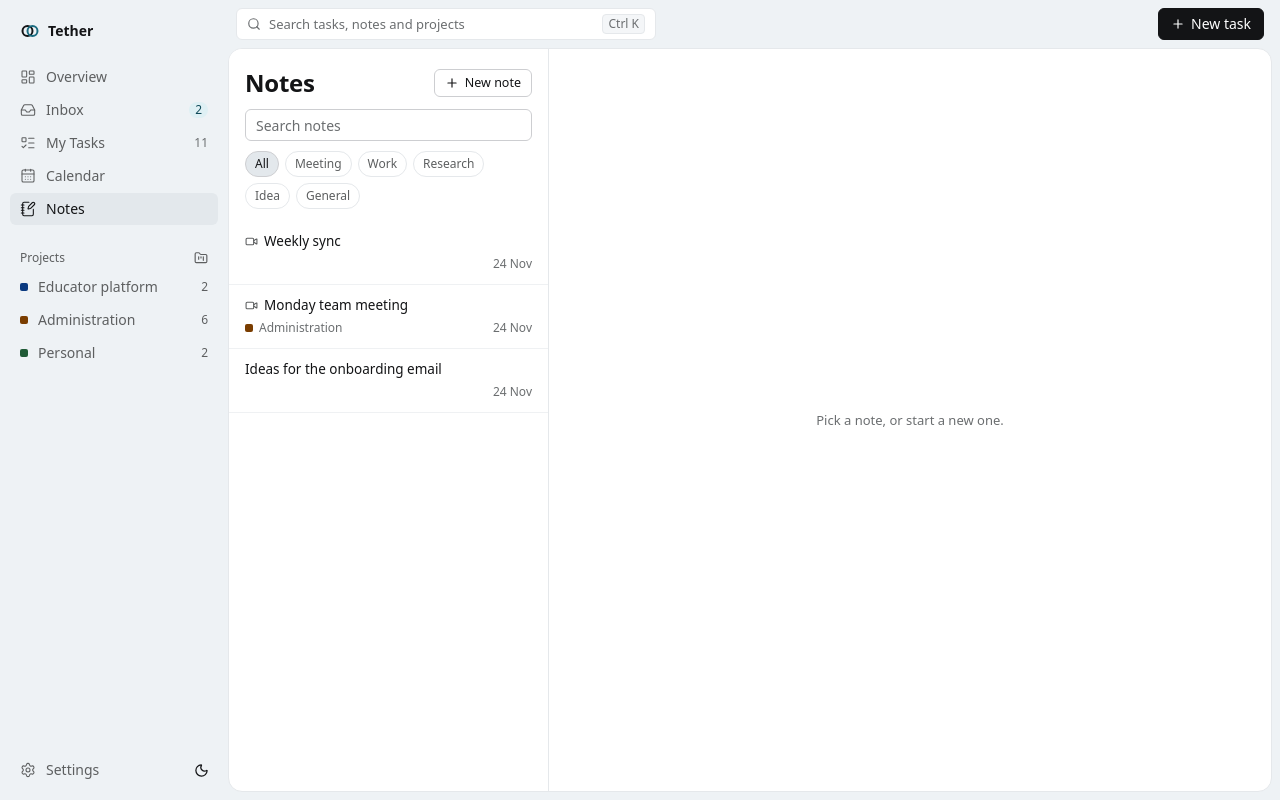
Scenario: Notes › opens a note and saves an edited title on blur
This screenshot has width=1280, height=800.
Click the button "Ideas for the onboarding email 24 Nov" at {"x": 388, "y": 381}, box [229, 349, 548, 413]
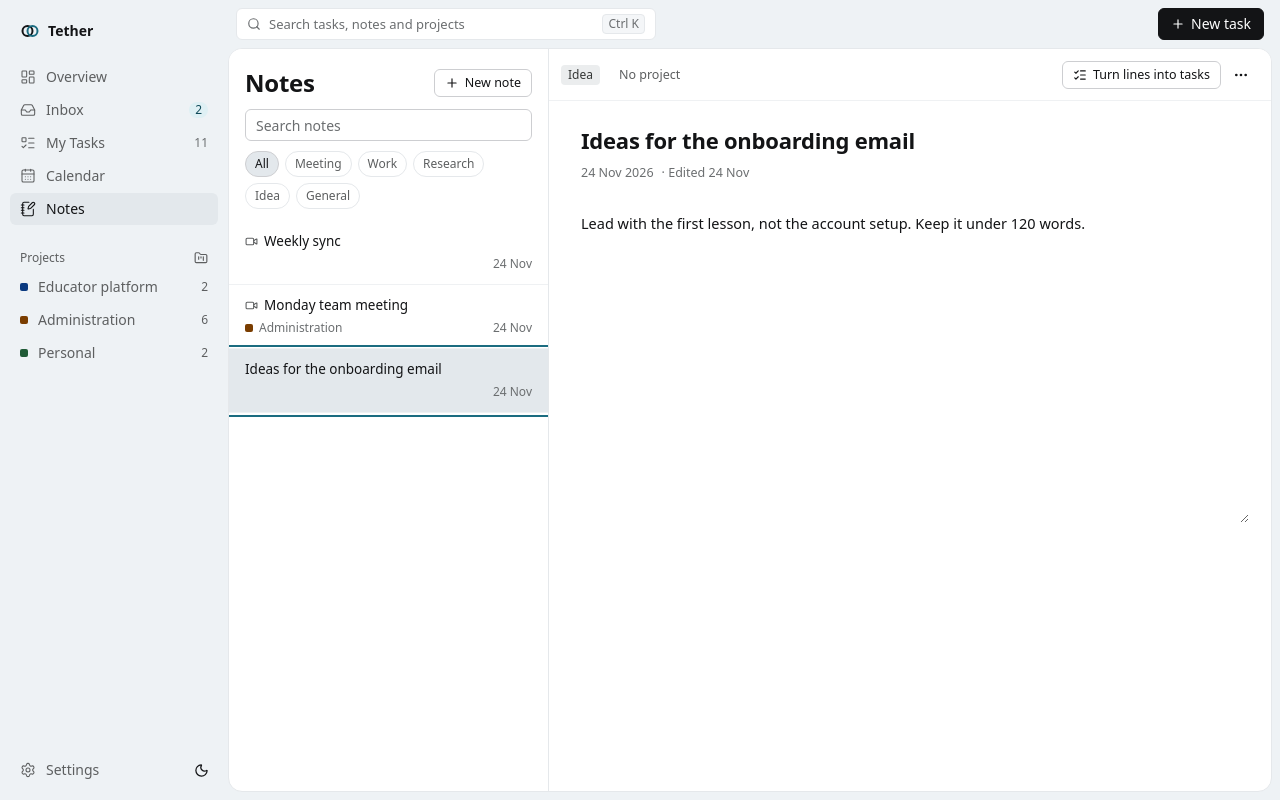
Replace the text in the field named "Note title" with "Onboarding email ideas" at {"x": 906, "y": 140}, box [577, 125, 1235, 155]
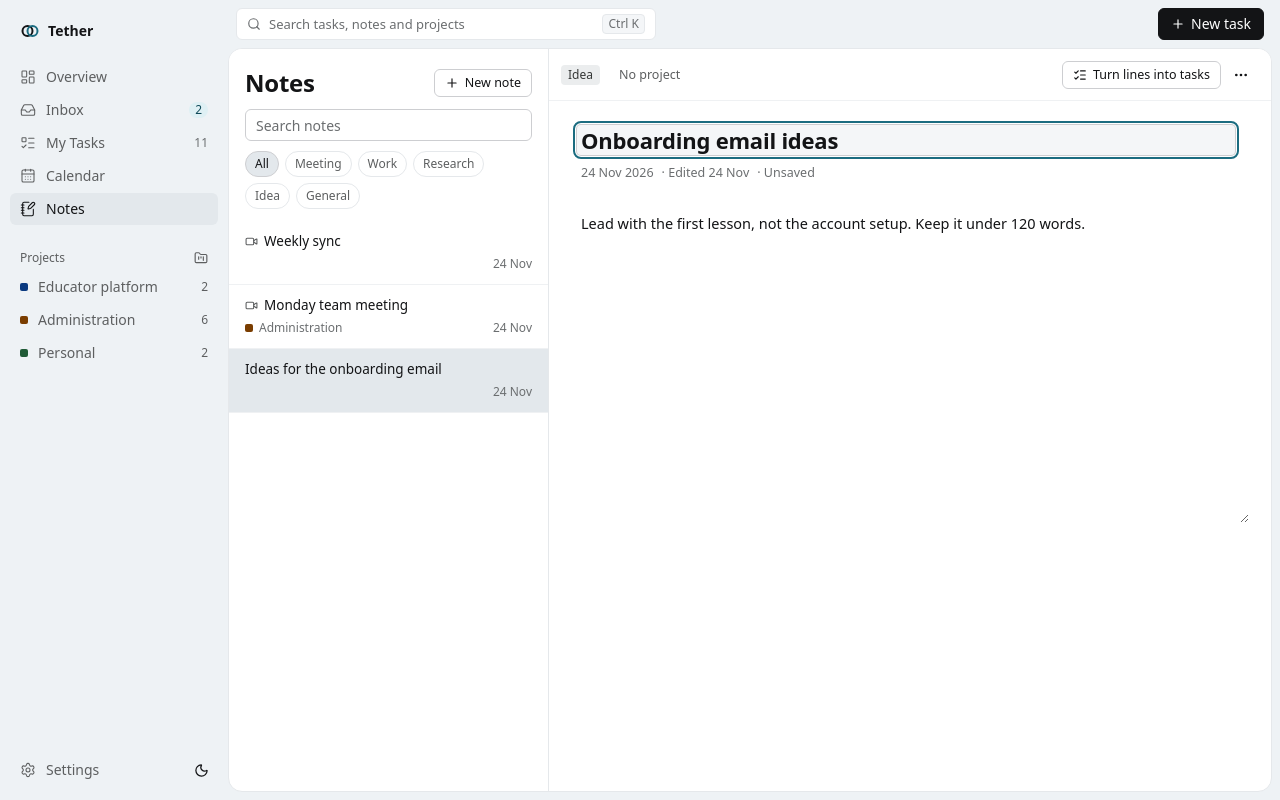
Press Tab
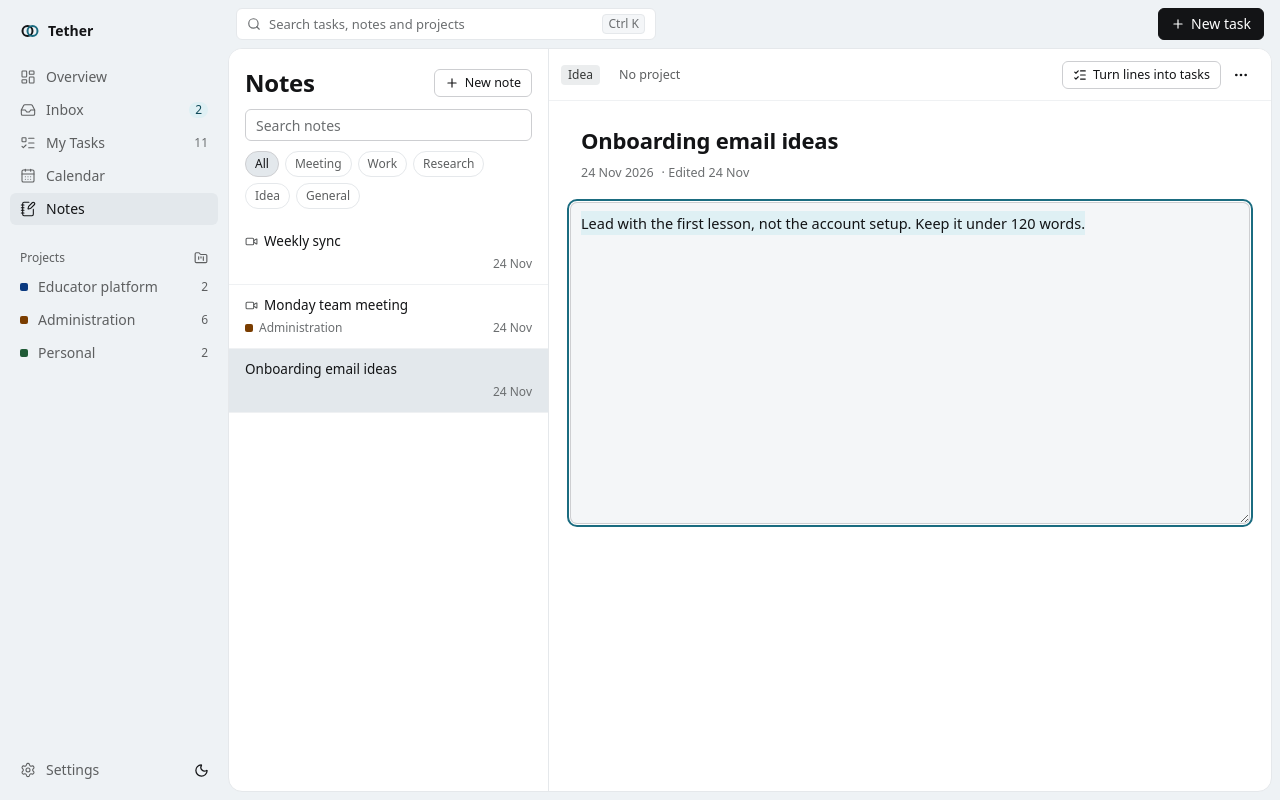
Now the text "Onboarding email ideas" is shown, box [245, 359, 397, 379]
